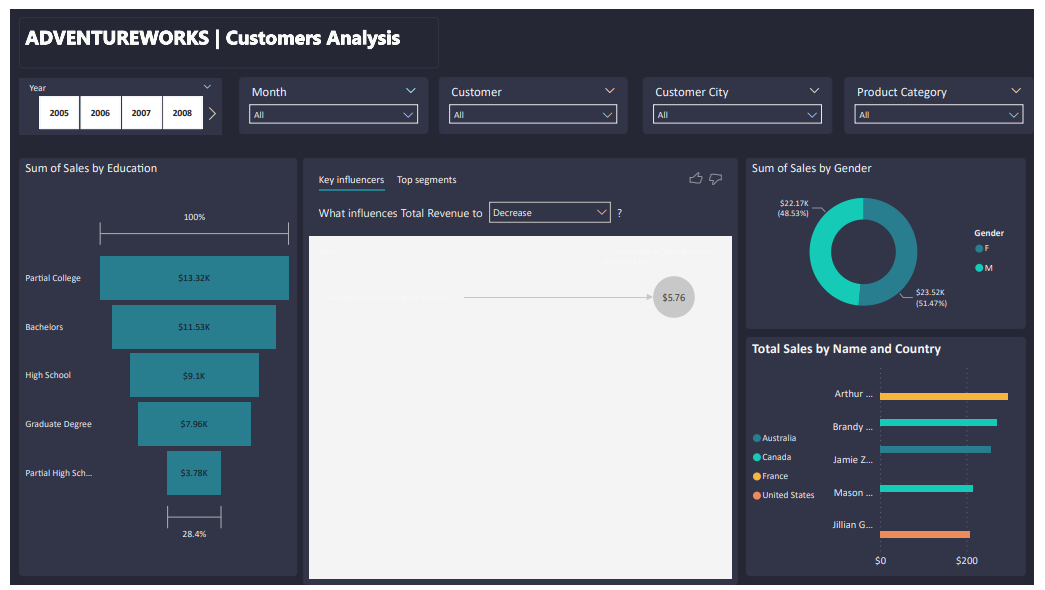

Layout of this report page (visuals, bound fields, positions):
{"tool":"powerbi","page":{"name":"Customers Analysis","canvas":[1280,720],"ordinal":2},"visuals":[{"type":"textbox","box":[11.3,9.9,524.4,63.8],"z":0},{"type":"slicer","fields":{"Values":["Customer.Name"]},"box":[535.7,85,236.7,70.9],"z":1000},{"type":"slicer","fields":{"Values":["Geography.City"]},"box":[790.9,85,236.7,70.9],"z":2000},{"type":"slicer","fields":{"Values":["ProductCategory.ProductCategory"]},"box":[1043.1,85,236.7,70.9],"z":3000},{"type":"slicer","fields":{"Values":["Date.Month"]},"box":[286.3,85,236.7,70.9],"z":4000},{"type":"slicer","fields":{"Values":["Date.Year"]},"box":[11.4,85.6,252.6,71.3],"z":5000},{"type":"keyDriversVisual","title":"Top 5 Sales by Customer","fields":{"Target":["DAX Measures.Total Revenue"],"ExplainBy":["Geography.City","Sales.UnitPrice"]},"box":[365.7,185.7,544.3,534.3],"z":6000},{"type":"donutChart","fields":{"Category":["Customer.Gender"],"Y":["Sales.Sales"]},"box":[919.8,185.7,350.1,214],"z":7000},{"type":"funnel","fields":{"Category":["Customer.Education"],"Y":["Sales.Sales"]},"box":[11.3,185.7,347.2,523],"z":8000},{"type":"clusteredBarChart","title":"Total Sales by Name and Country","fields":{"Series":["Geography.Country"],"Category":["Customer.Name"],"Y":["Sales.Sales"]},"box":[919.8,409.6,350.1,299.1],"z":9000}]}

Visuals, with their boxes in screenshot pixels (x1, y1, x2, y2), scaled from the page's 1280x720 canvas onto the 1045x590 screenshot:
textbox: box=[9, 8, 437, 60]
slicer - Customer.Name: box=[437, 70, 631, 128]
slicer - Geography.City: box=[646, 70, 839, 128]
slicer - ProductCategory.ProductCategory: box=[852, 70, 1044, 128]
slicer - Date.Month: box=[234, 70, 427, 128]
slicer - Date.Year: box=[9, 70, 216, 129]
"Top 5 Sales by Customer" keyDriversVisual: box=[299, 152, 743, 589]
donutChart - Customer.Gender x Sales.Sales: box=[751, 152, 1037, 328]
funnel - Customer.Education x Sales.Sales: box=[9, 152, 293, 581]
"Total Sales by Name and Country" clusteredBarChart: box=[751, 336, 1037, 581]
